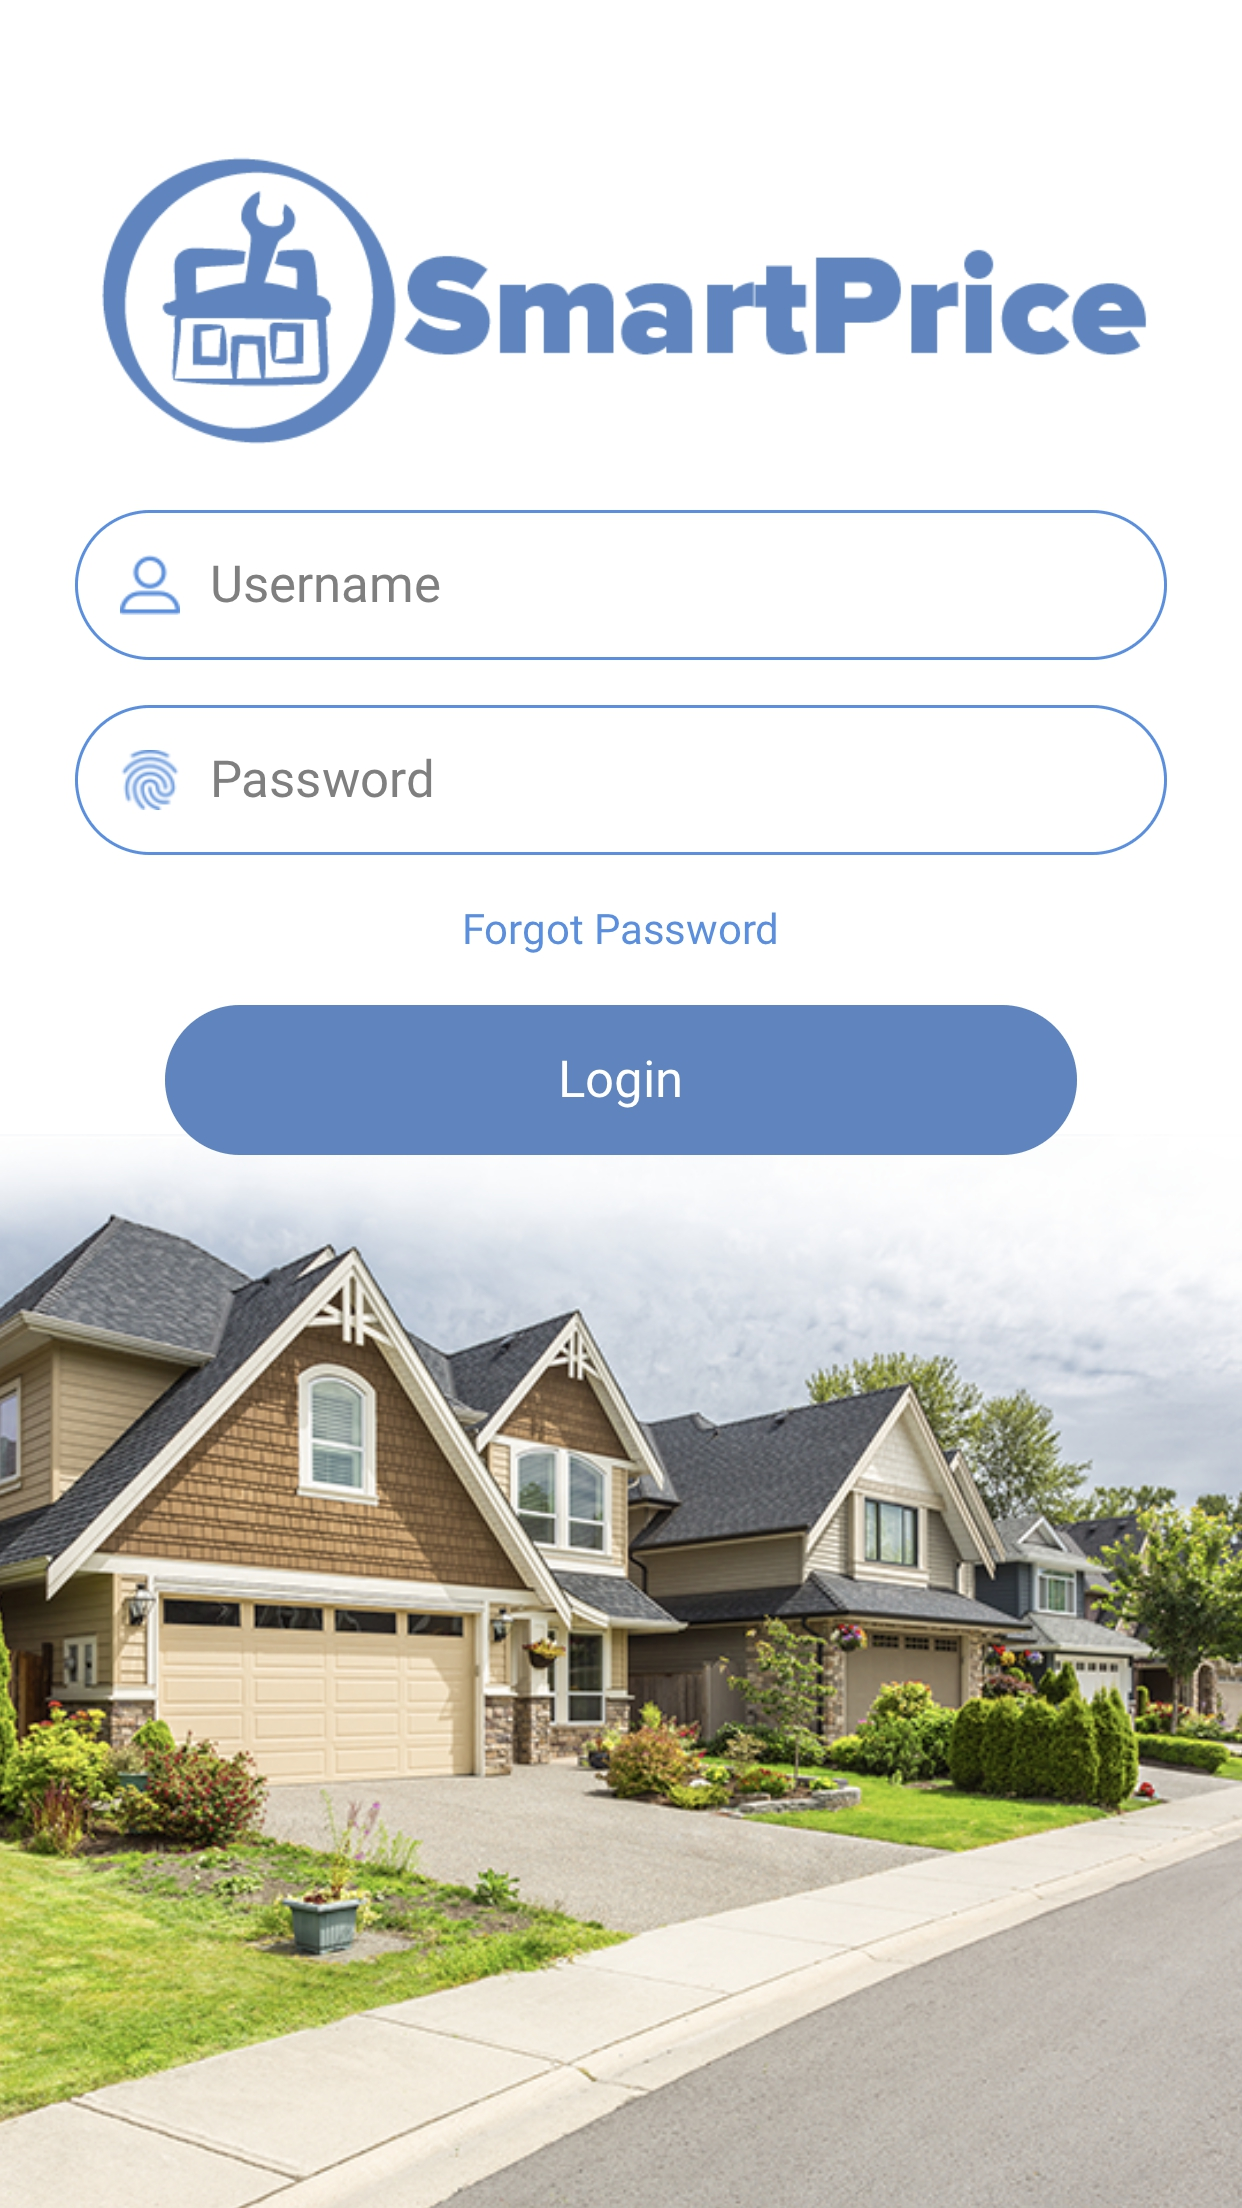EditText: (74, 510, 1168, 661), (74, 705, 1168, 855)
Icon: (121, 555, 180, 616)
Image: (2, 1197, 1242, 2208), (103, 158, 397, 444), (123, 751, 179, 811)
Text: (403, 250, 1148, 356), (466, 911, 776, 954), (214, 758, 434, 799), (214, 566, 441, 604)
TextButton: (165, 1005, 1078, 1156)
